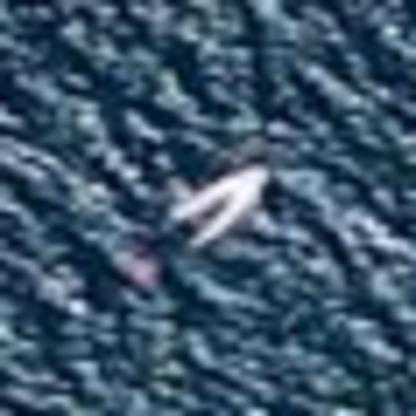ship: (147, 156, 275, 251)
